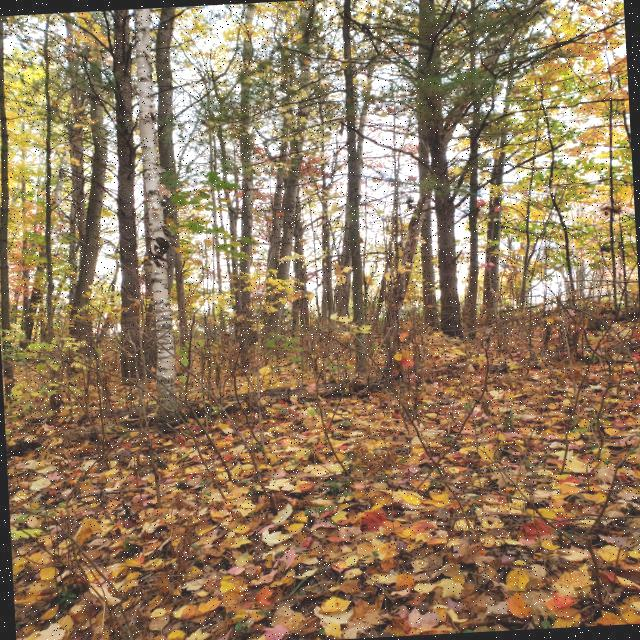fallen_object: (9, 328, 521, 449)
